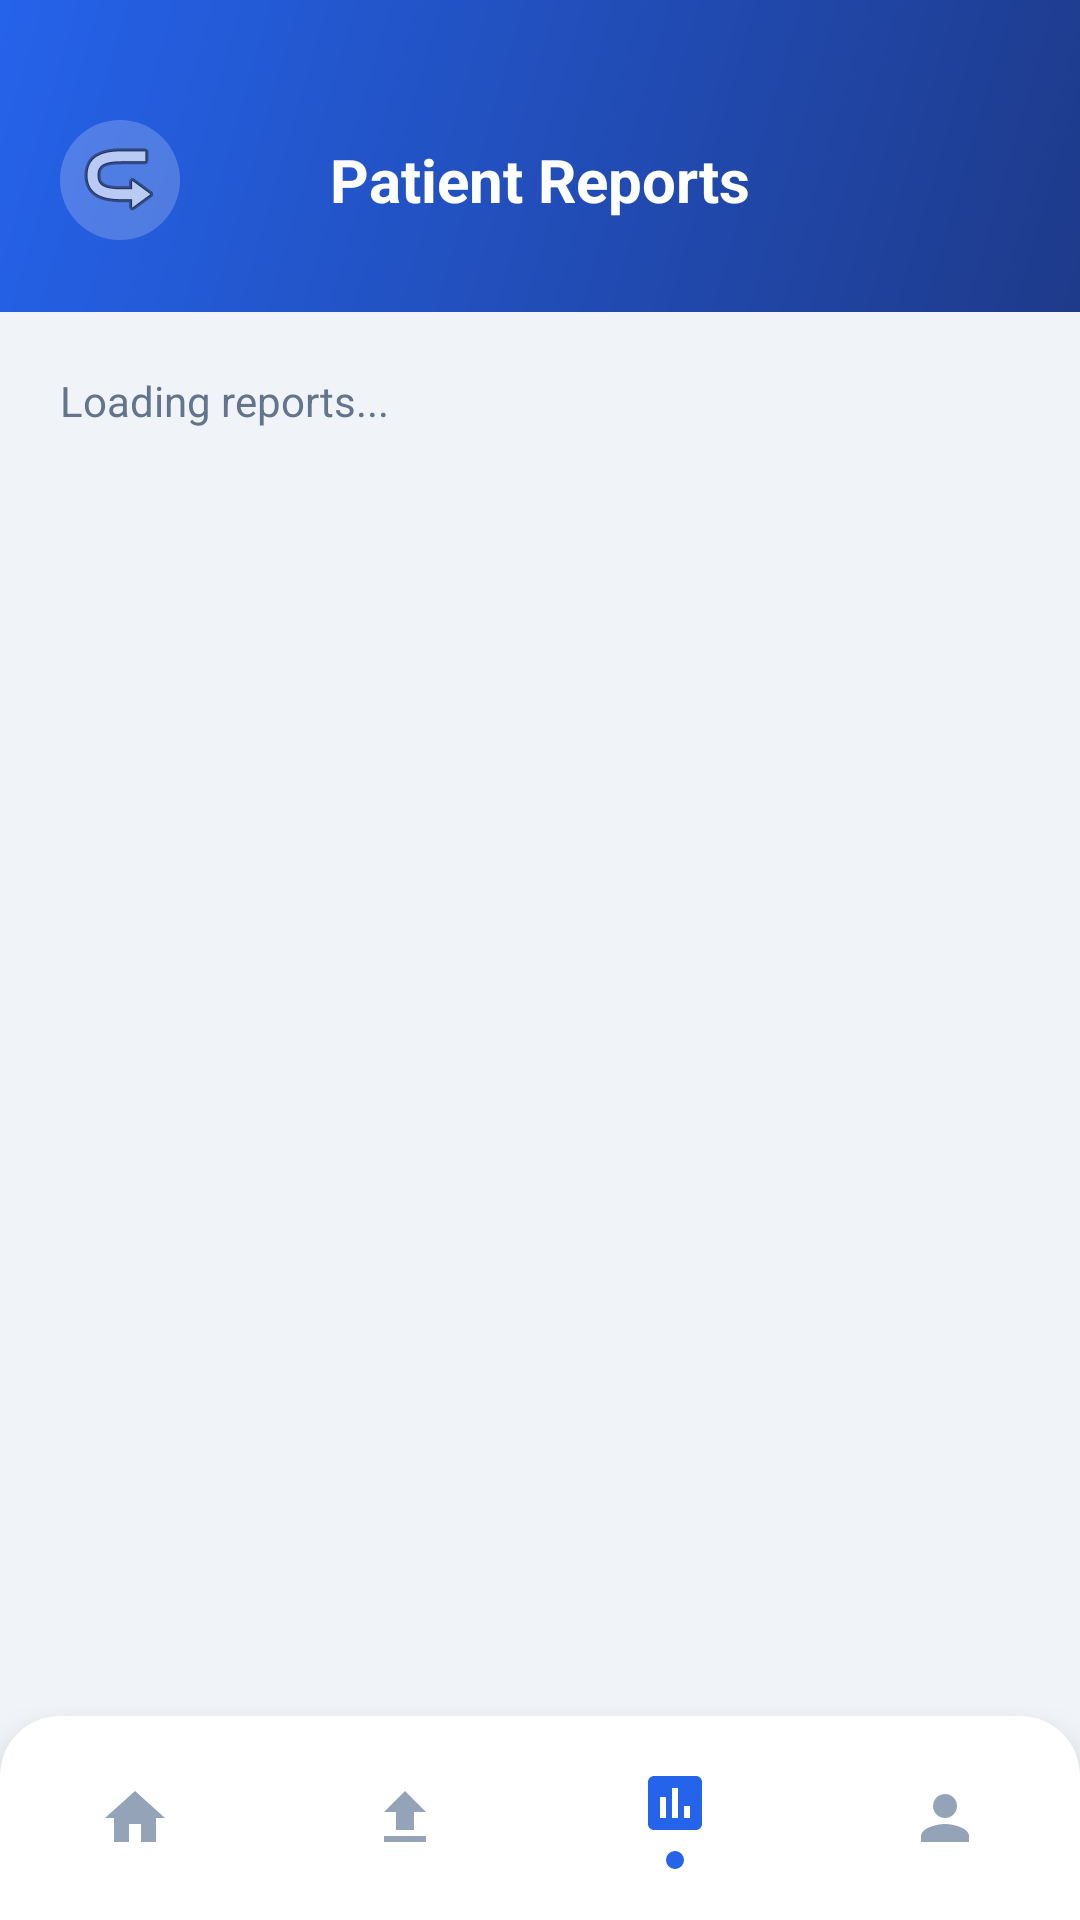

Icons on this 1080 x 1920 Android screen, each with its box as region(x1, y1, x2, y2):
home: region(105, 1791, 165, 1842)
profile: region(921, 1794, 969, 1842)
report: region(648, 1776, 702, 1830)
upload: region(384, 1791, 426, 1842)
